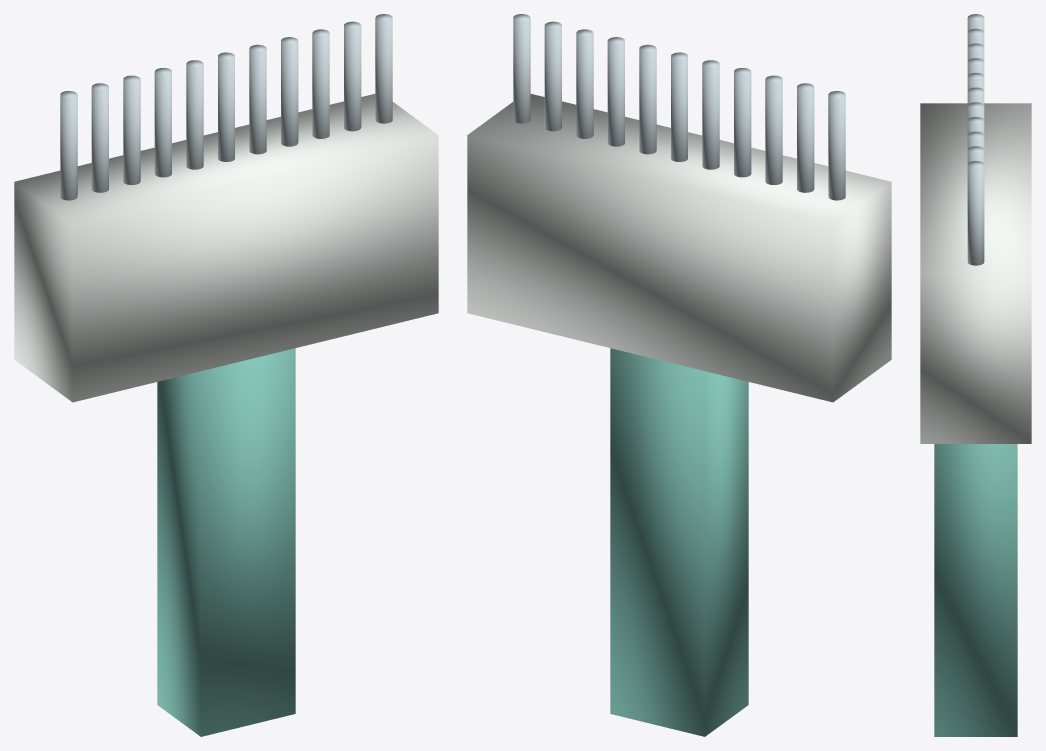
The model's file is tool-comb.glb.
The picture shows the model from 3 angles, left to right: view 1: azimuth 30°, elevation 25°; view 2: azimuth 150°, elevation 25°; view 3: azimuth 270°, elevation 25°; orthographic projection. The views are drawn at different scales.
Visible parts, largest first — view 1: head, handle, tooth or bristle.006, tooth or bristle, tooth or bristle.007, tooth or bristle.009, tooth or bristle.001, tooth or bristle.002, tooth or bristle.010, tooth or bristle.004, tooth or bristle.008, tooth or bristle.003 (+1 smaller); view 2: head, handle, tooth or bristle.006, tooth or bristle, tooth or bristle.007, tooth or bristle.009, tooth or bristle.001, tooth or bristle.002, tooth or bristle.010, tooth or bristle.004, tooth or bristle.008, tooth or bristle.003 (+1 smaller); view 3: head, handle, tooth or bristle.010, tooth or bristle.001, tooth or bristle.002, tooth or bristle.005, tooth or bristle.008, tooth or bristle.004, tooth or bristle.006, tooth or bristle.003, tooth or bristle.007, tooth or bristle.009 (+1 smaller).
Part boxes in pixels (x1,y1,x2,y2): head: (14, 94, 438, 402); handle: (157, 348, 295, 736); tooth or bristle.006: (249, 44, 266, 154); tooth or bristle: (60, 91, 77, 200); tooth or bristle.007: (281, 37, 298, 146); tooth or bristle.009: (344, 21, 361, 131); tooth or bristle.001: (91, 83, 108, 192); tooth or bristle.002: (123, 75, 140, 184); tooth or bristle.010: (375, 14, 392, 123); tooth or bristle.004: (186, 60, 203, 169); tooth or bristle.008: (312, 29, 329, 138); tooth or bristle.003: (154, 68, 171, 177); head: (467, 94, 891, 402); handle: (610, 348, 748, 736); tooth or bristle.006: (639, 44, 656, 154); tooth or bristle: (828, 91, 845, 200); tooth or bristle.007: (607, 37, 624, 146); tooth or bristle.009: (544, 21, 561, 131); tooth or bristle.001: (797, 83, 814, 192); tooth or bristle.002: (765, 75, 782, 184); tooth or bristle.010: (513, 14, 530, 123); tooth or bristle.004: (702, 60, 719, 169); tooth or bristle.008: (576, 29, 593, 138); tooth or bristle.003: (734, 68, 751, 177); head: (920, 103, 1031, 443); handle: (934, 444, 1017, 736); tooth or bristle.010: (967, 161, 984, 265); tooth or bristle.001: (967, 28, 984, 46); tooth or bristle.002: (967, 43, 984, 60); tooth or bristle.005: (967, 87, 984, 104); tooth or bristle.008: (967, 131, 984, 148); tooth or bristle.004: (967, 72, 984, 90); tooth or bristle.006: (967, 102, 984, 119); tooth or bristle.003: (967, 58, 984, 75); tooth or bristle.007: (967, 117, 984, 134); tooth or bristle.009: (967, 146, 984, 163).
Size of the model in its own units: 0.58 by 0.99 by 0.16.
